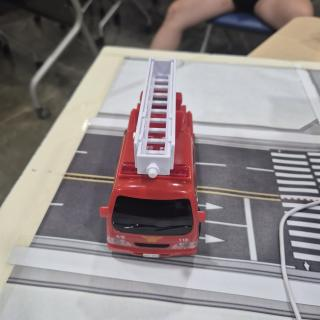Fire_truck: (100, 57, 206, 258)
